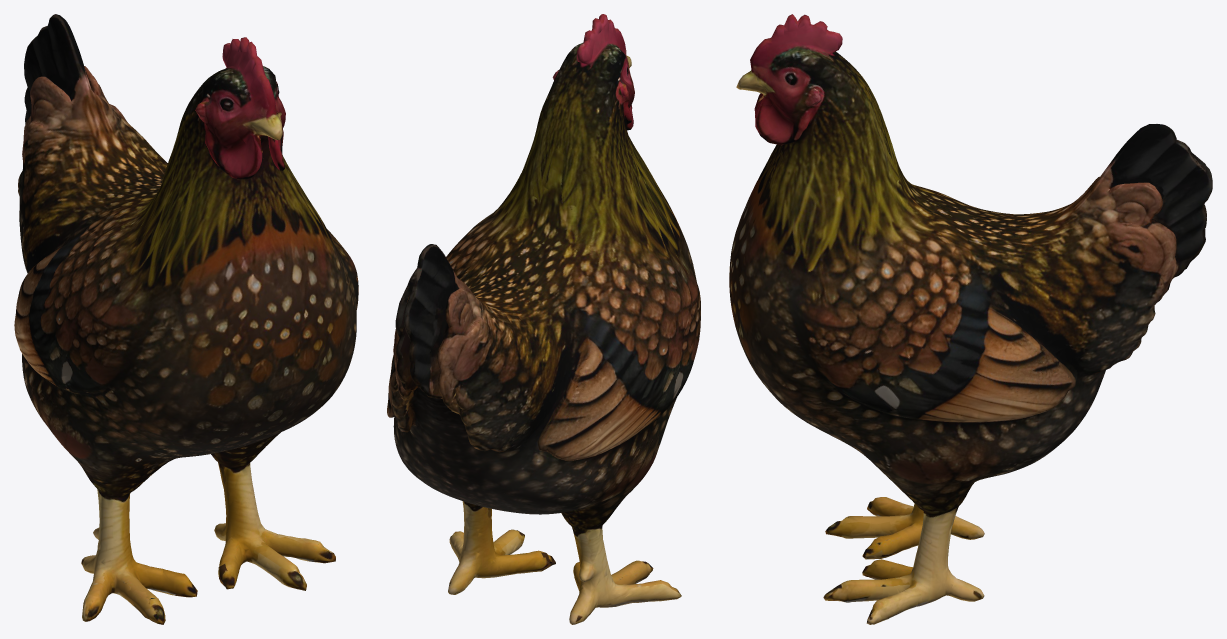
The model's file is gallina.glb.
3 renders of one model, left to right at view 1: azimuth 30°, elevation 25°; view 2: azimuth 150°, elevation 25°; view 3: azimuth 270°, elevation 25°, orthographic. The views are drawn at different scales.
Parts seen in each view (by area): view 1: gallina; view 2: gallina; view 3: gallina.
Boxes of the visible parts, x1,y1,x2,y2 form: gallina: [14, 14, 358, 624]; gallina: [387, 14, 700, 624]; gallina: [729, 14, 1212, 624].
Bounding box in the file's own units: 0.2024 × 0.42 × 0.3314.
Materials: 1 (1 with a texture image).
